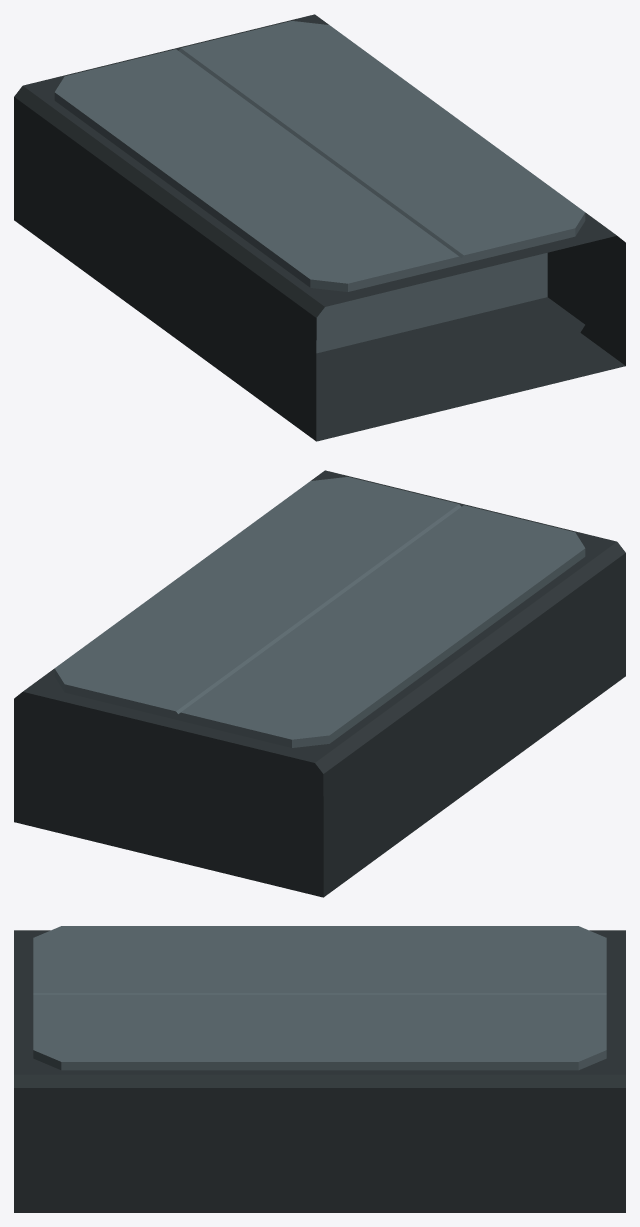
File: Cabinet 03.FBX
3 renders of one model, top to bottom at view 1: azimuth 30°, elevation 25°; view 2: azimuth 150°, elevation 25°; view 3: azimuth 270°, elevation 25°, orthographic.
Parts seen in each view (by area): view 1: Cabinet 03, Cabinet 03 Right Door, Cabinet 03 Left Door; view 2: Cabinet 03, Cabinet 03 Right Door, Cabinet 03 Left Door; view 3: Cabinet 03, Cabinet 03 Left Door, Cabinet 03 Right Door.
Part boxes in pixels (x1,y1,x2,y2): Cabinet 03: [14, 14, 625, 441]; Cabinet 03 Right Door: [54, 49, 461, 291]; Cabinet 03 Left Door: [178, 21, 585, 263]; Cabinet 03: [14, 470, 625, 897]; Cabinet 03 Right Door: [178, 505, 585, 747]; Cabinet 03 Left Door: [54, 477, 461, 719]; Cabinet 03: [14, 930, 625, 1212]; Cabinet 03 Left Door: [33, 995, 606, 1070]; Cabinet 03 Right Door: [33, 926, 606, 994].
Size of the model in its own units: 177 by 77.09 by 300.
Materials: 1 (1 with a texture image).
